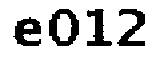0: (46, 6, 82, 48)
1: (84, 6, 113, 48)
2: (116, 6, 150, 47)
e: (11, 16, 42, 51)
